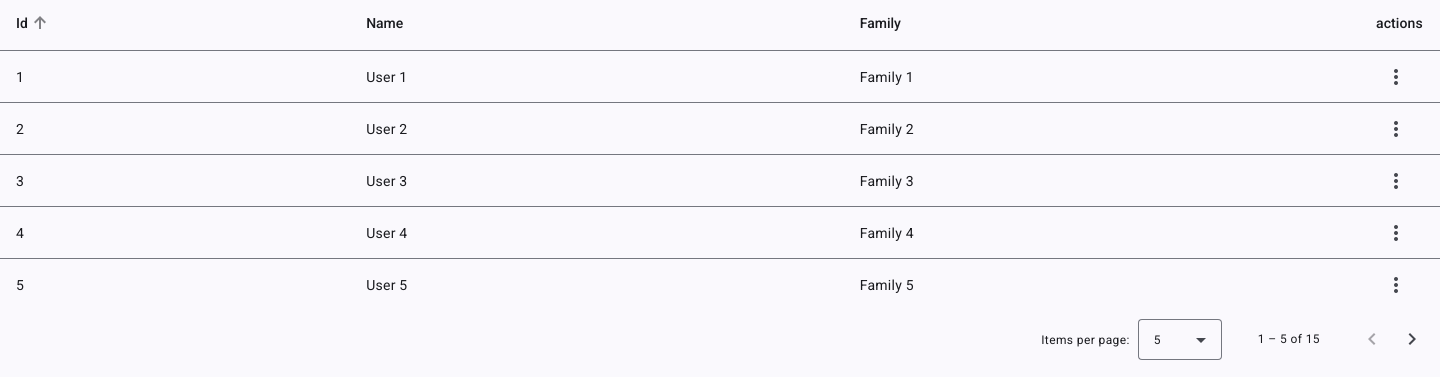
Test: UsersListComponent › should change page when paginator is clicked
The width and height of the screenshot is (1440, 377).
Click the button named "Next page" at [1412, 339], box [1392,319,1432,359]
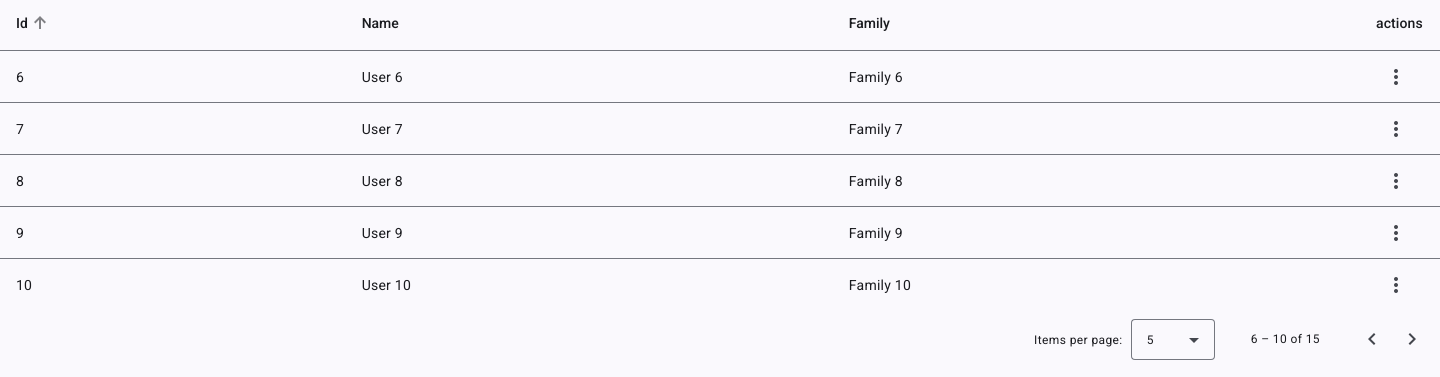
Expected: the text "User 6" is shown, [346,51,833,103]
